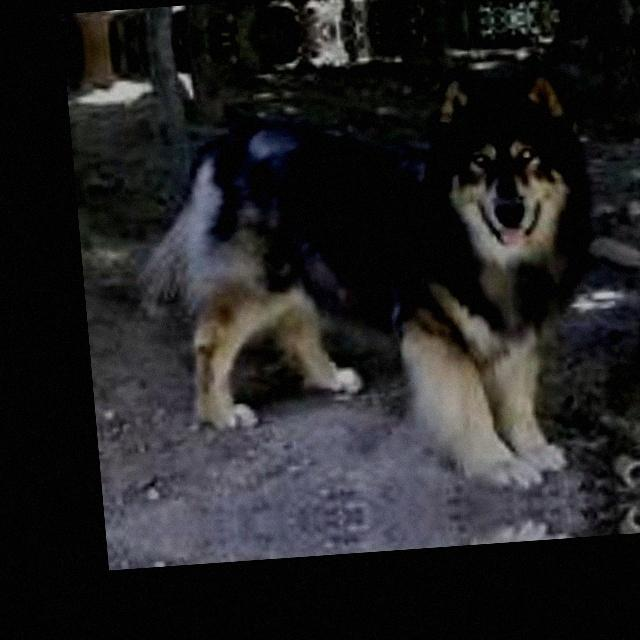dog: (136, 62, 630, 518), (174, 508, 634, 566)
